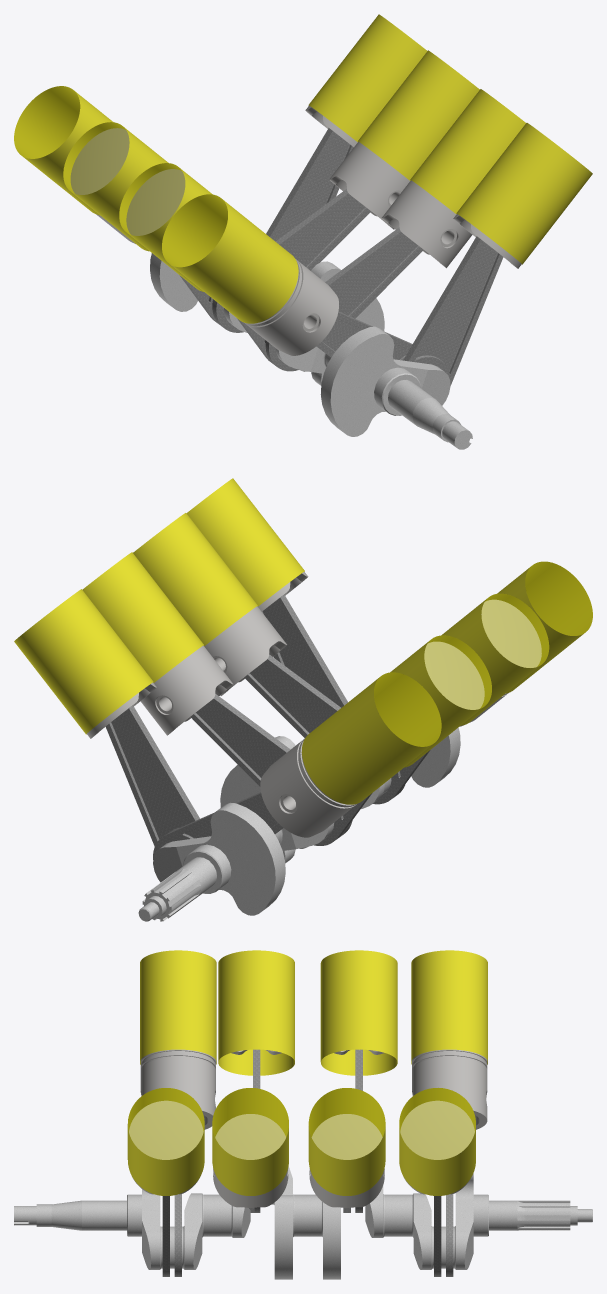
Rendered from V8 engine.glb.
3 renders of one model, top to bottom at view 1: azimuth 30°, elevation 25°; view 2: azimuth 150°, elevation 25°; view 3: azimuth 270°, elevation 25°, orthographic. The views are drawn at different scales.
Visible parts, largest first — view 1: Srf1 (×8), Solid1 (×12), Srf2 (×4); view 2: Srf1 (×8), Solid1 (×14), Srf2 (×4); view 3: Srf1 (×8), Solid1 (×11), Srf2 (×4).
Boxes of the visible parts, left/top/right/bottom form: Srf1 (×8): left=14, top=14, right=592, bottom=323; Solid1 (×12): left=70, top=128, right=521, bottom=449; Srf2 (×4): left=14, top=86, right=227, bottom=266; Srf1 (×8): left=14, top=478, right=592, bottom=804; Solid1 (×14): left=87, top=594, right=541, bottom=921; Srf2 (×4): left=374, top=562, right=592, bottom=746; Srf1 (×8): left=127, top=950, right=487, bottom=1195; Solid1 (×11): left=14, top=1049, right=592, bottom=1279; Srf2 (×4): left=128, top=1088, right=475, bottom=1159.
Size of the model in its own units: 1.44 by 0.9147 by 1.92.
Materials: 5 (2 with a texture image).
